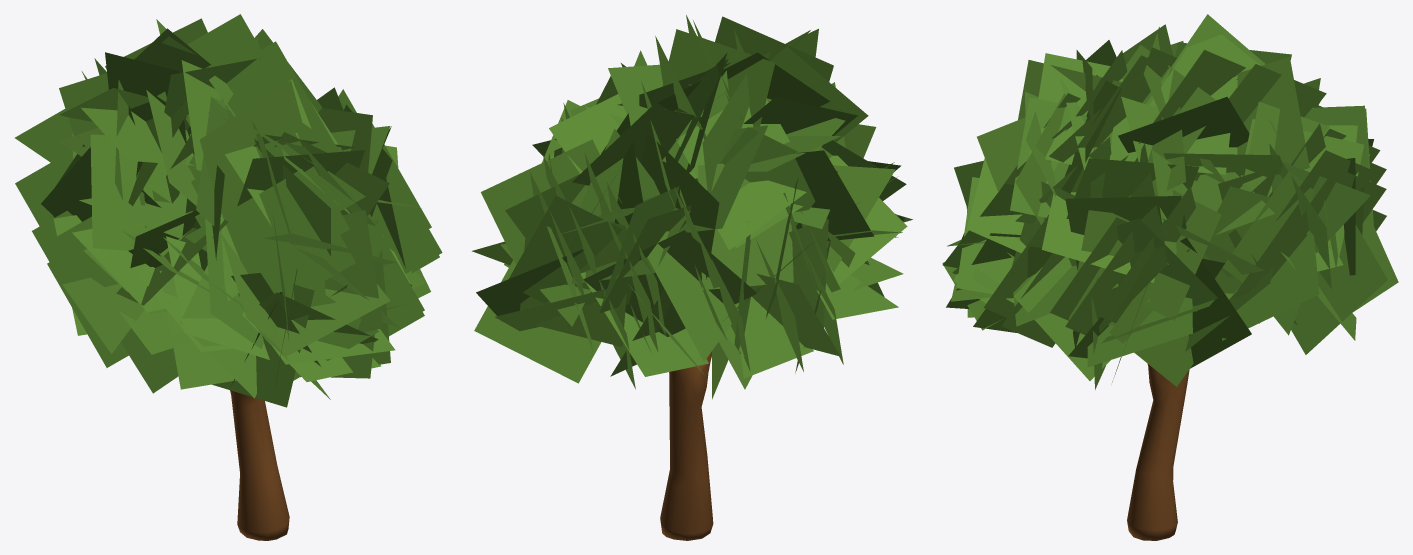
Rendered from Tree1Foliage.fbx.
3 renders of one model, left to right at view 1: azimuth 30°, elevation 25°; view 2: azimuth 150°, elevation 25°; view 3: azimuth 270°, elevation 25°, orthographic. The views are drawn at different scales.
Parts seen in each view (by area): view 1: Uncolored_Tree.003; view 2: Uncolored_Tree.003; view 3: Uncolored_Tree.003.
Part boxes in pixels (x1,y1,x2,y2): Uncolored_Tree.003: [15, 14, 442, 540]; Uncolored_Tree.003: [472, 15, 912, 540]; Uncolored_Tree.003: [942, 14, 1398, 540].
Size of the model in its own units: 479 by 561 by 385.
